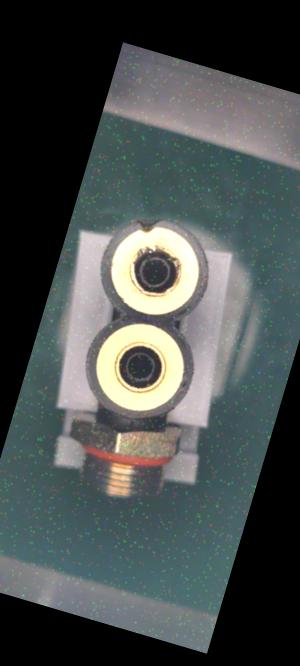bump: (127, 206, 172, 242)
craze: (124, 416, 140, 434)
